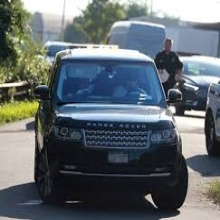no damage: (34, 50, 189, 213)
